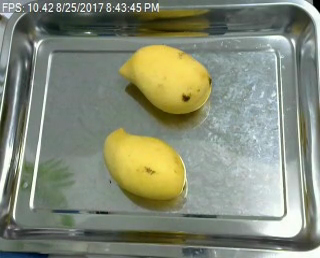Mango: (118, 43, 212, 115), (100, 128, 186, 202)
